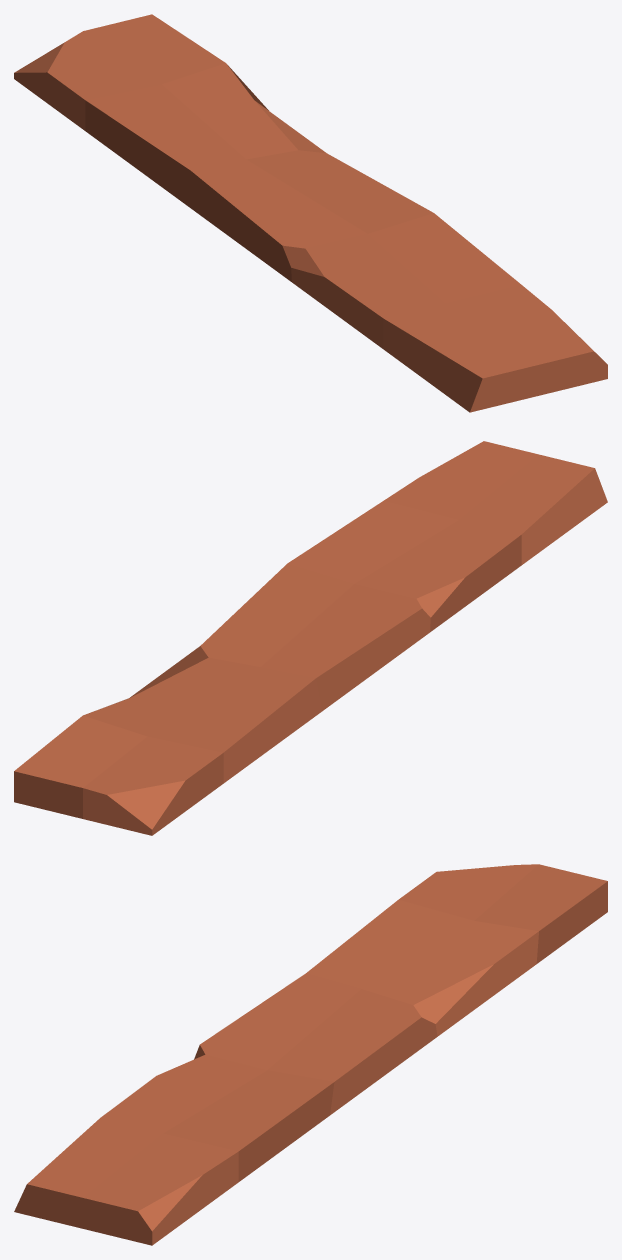
The model's file is WoodenPlank4.fbx.
The picture shows the model from 3 angles, top to bottom: view 1: azimuth 30°, elevation 25°; view 2: azimuth 150°, elevation 25°; view 3: azimuth 330°, elevation 25°; orthographic projection.
Parts seen in each view (by area): view 1: Plank4; view 2: Plank4; view 3: Plank4.
Boxes of the visible parts, x1,y1,x2,y2 form: Plank4: (14,14,607,412); Plank4: (14,441,607,835); Plank4: (14,864,607,1245).
Size of the model in its own units: 146 by 33.41 by 800.
